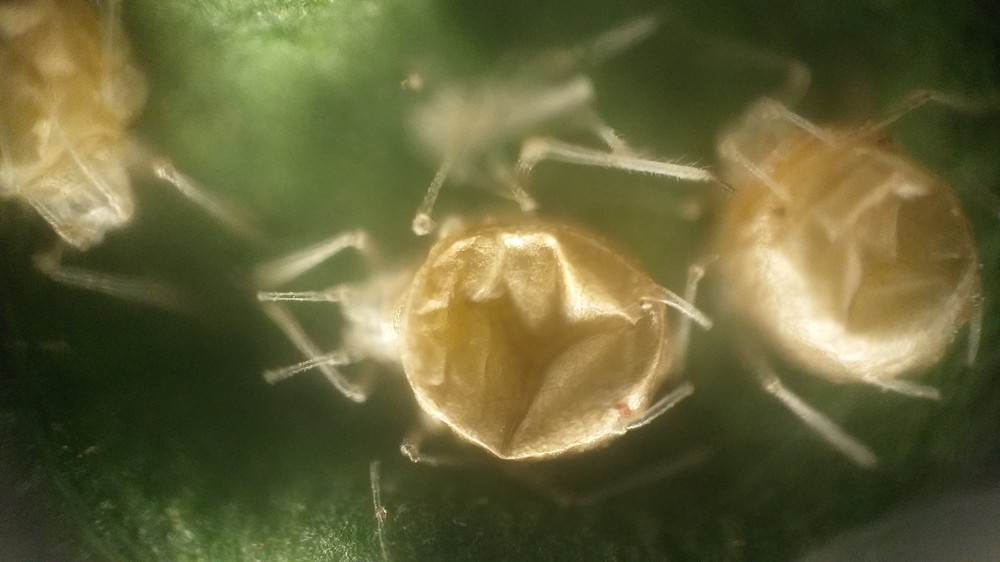Pulgon: (258, 154, 740, 511), (670, 70, 1000, 464), (2, 1, 279, 309)
